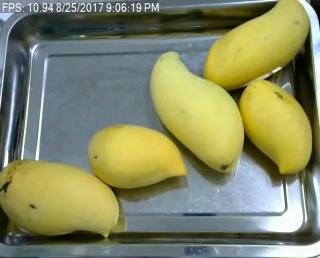Mango: (145, 49, 245, 174), (201, 0, 311, 91), (0, 159, 119, 242), (235, 76, 315, 174), (86, 123, 190, 193)
